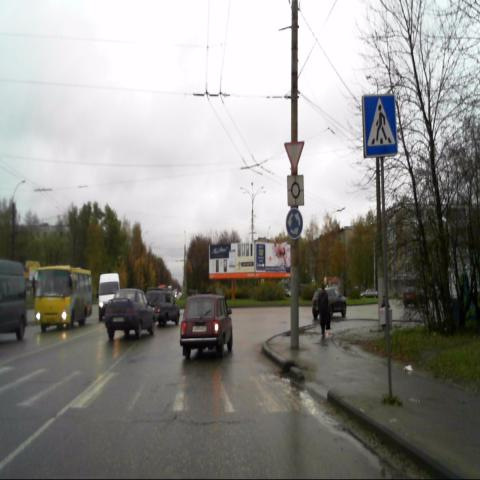2_4: (284, 140, 304, 172)
4_3: (285, 207, 303, 241)
5_19_1: (361, 94, 396, 160)
8_13_1: (286, 174, 304, 205)
